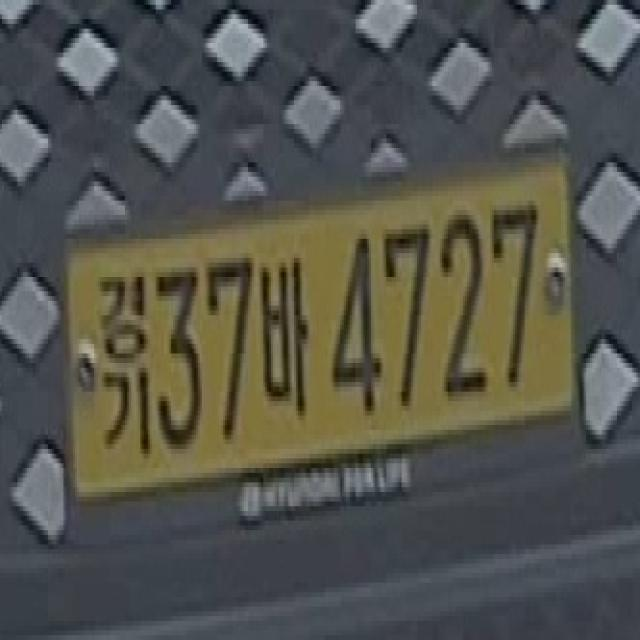plat: (62, 164, 575, 501)
